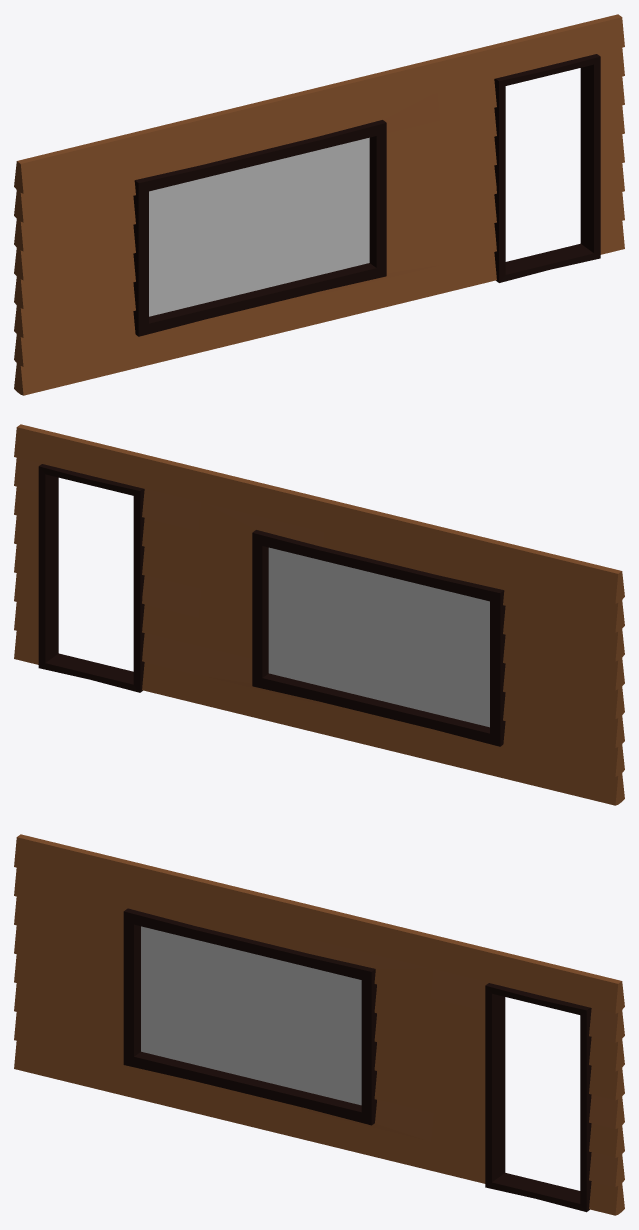
The model's file is ww_door_and_window_a.glb.
The picture shows the model from 3 angles, top to bottom: view 1: azimuth 30°, elevation 25°; view 2: azimuth 150°, elevation 25°; view 3: azimuth 330°, elevation 25°; orthographic projection.
Parts seen in each view (by area): view 1: Door_and_Window_A; view 2: Door_and_Window_A; view 3: Door_and_Window_A.
Boxes of the visible parts, <box> form: Door_and_Window_A: <box>14,14,624,395</box>; Door_and_Window_A: <box>14,424,624,805</box>; Door_and_Window_A: <box>14,834,624,1215</box>.
Size of the model in its own units: 9.6 by 3.53 by 0.4149.
